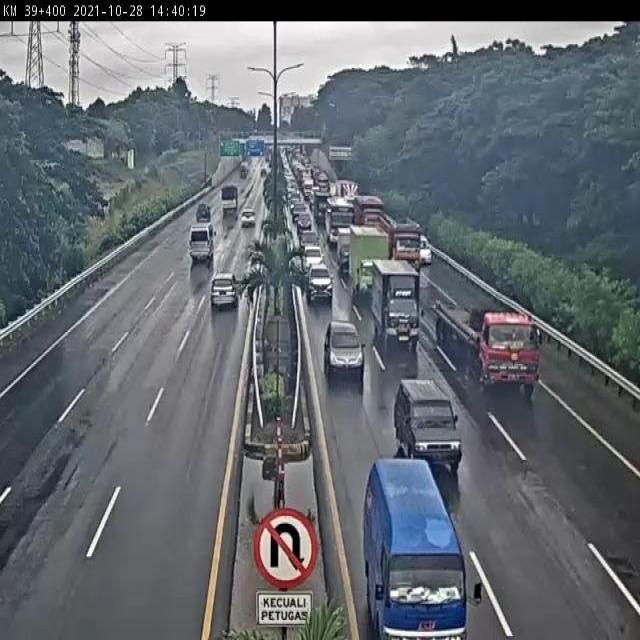big truck: (435, 293, 542, 396)
car: (394, 379, 464, 472), (323, 318, 364, 378), (211, 271, 239, 308), (307, 264, 333, 301), (301, 245, 322, 272), (240, 209, 256, 231)
small bus: (366, 458, 469, 640), (188, 223, 216, 261)
small truck: (373, 259, 423, 349), (350, 227, 389, 297), (336, 227, 354, 273)
